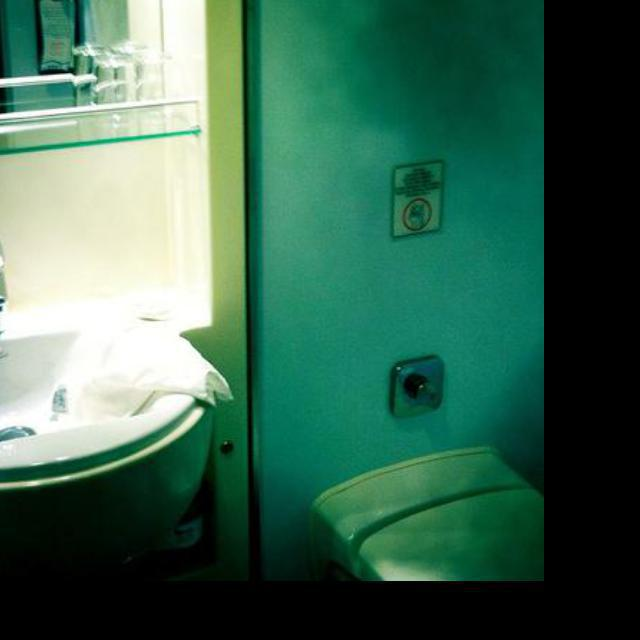Lavamanos: (0, 210, 218, 601)
